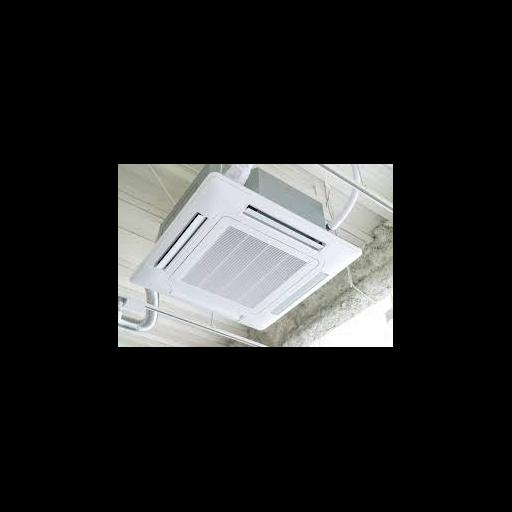4-way-ac: (130, 172, 363, 330)
